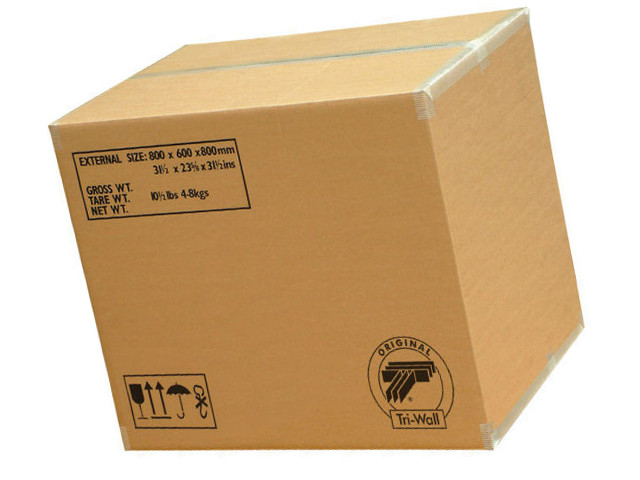cardboard: (46, 7, 585, 450)
